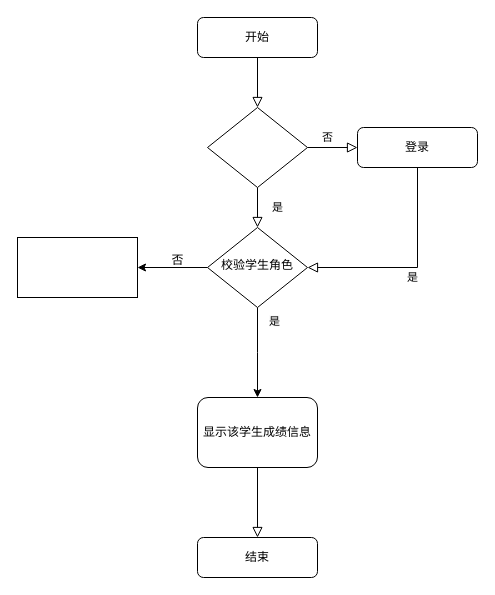
Some shapes in this 495 by 595 pixel diagram are drawn without their labels. The shapes that lost their labels are listed below. From the top down, each one's centre as x and y in pixels, then its label:
At (x=257, y=147): "是否已登录".
At (x=77, y=267): "判断所属角色显示对应页面".
